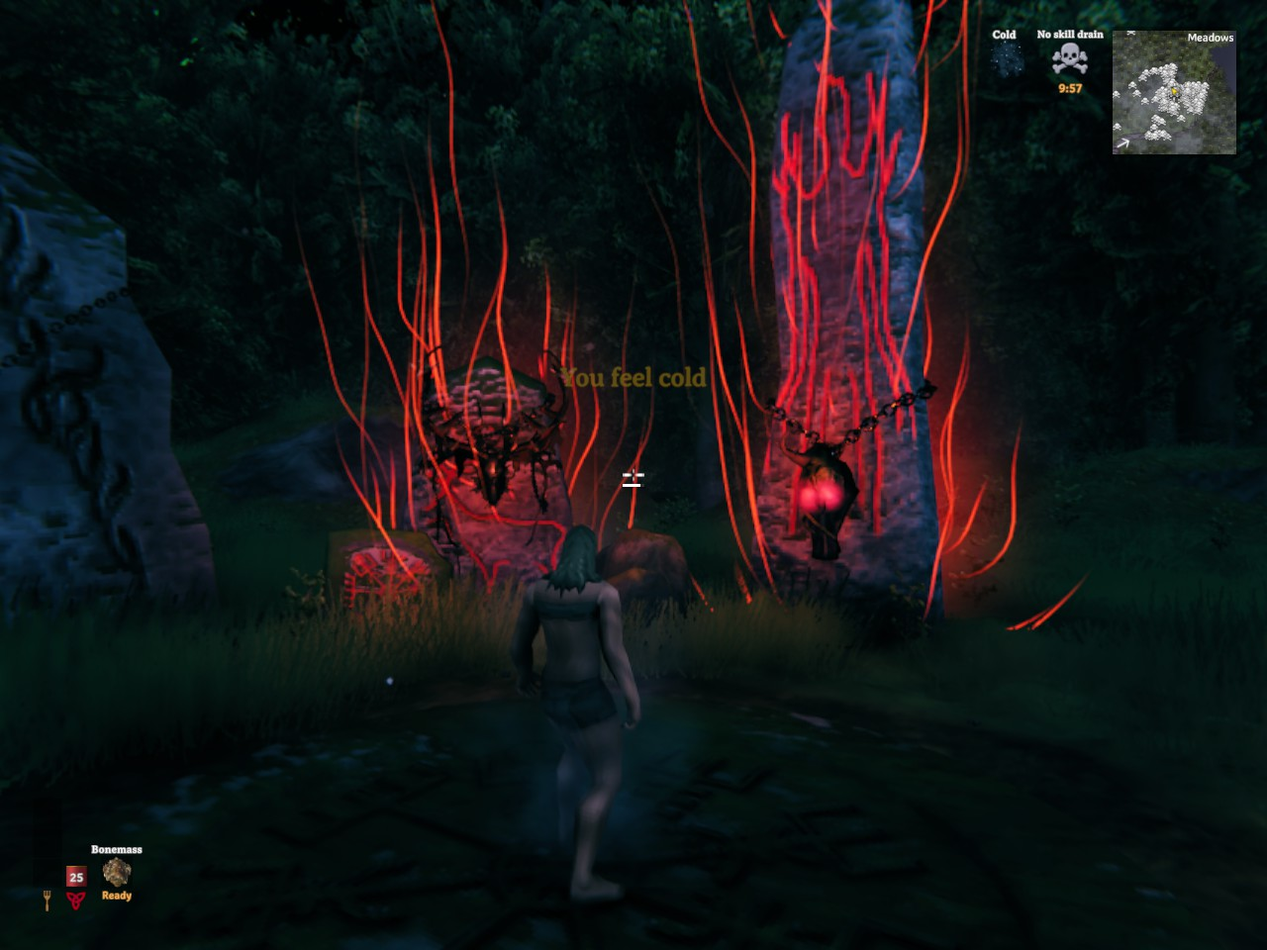Rune Stone: (328, 529, 450, 608)
